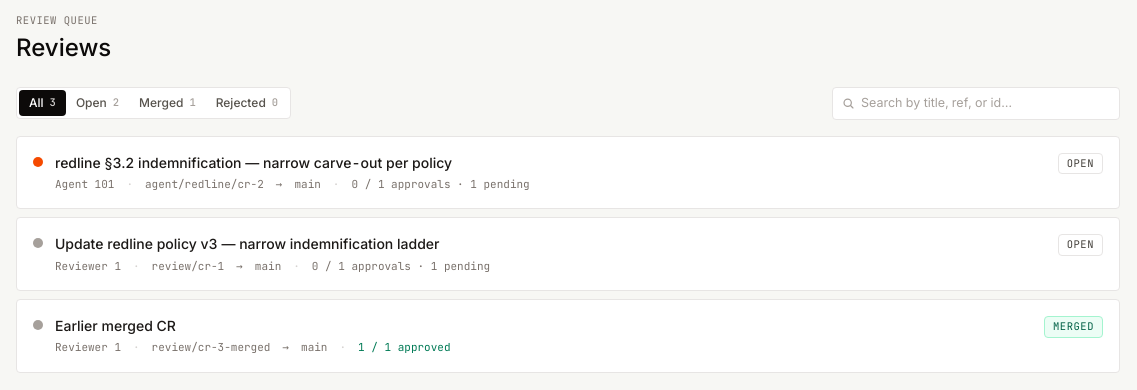
Scenario: ReviewsScreen — no-matches state › appears when filter + search would empty the list
This screenshot has width=1137, height=390.
Type "zzzzz" into the search field.
click(976, 103); type("zzzzz")  # box [832, 87, 1120, 120]
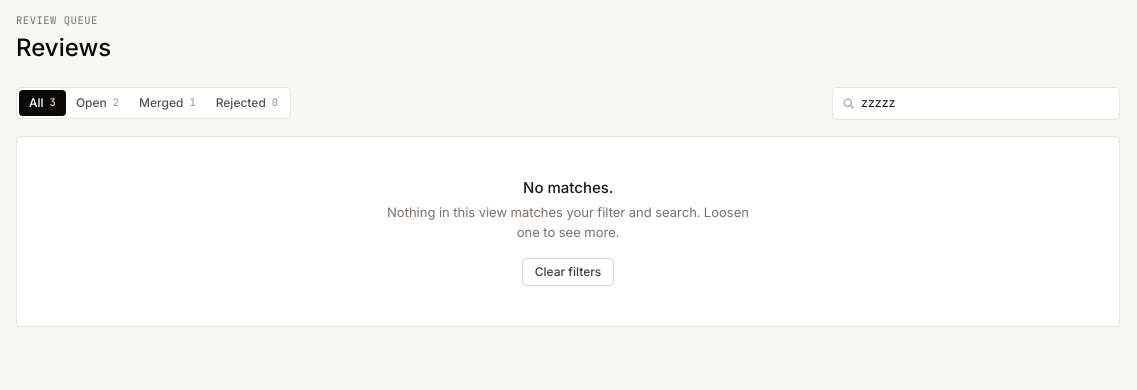
Expected: the heading "No matches." is shown, [523, 178, 613, 196]
